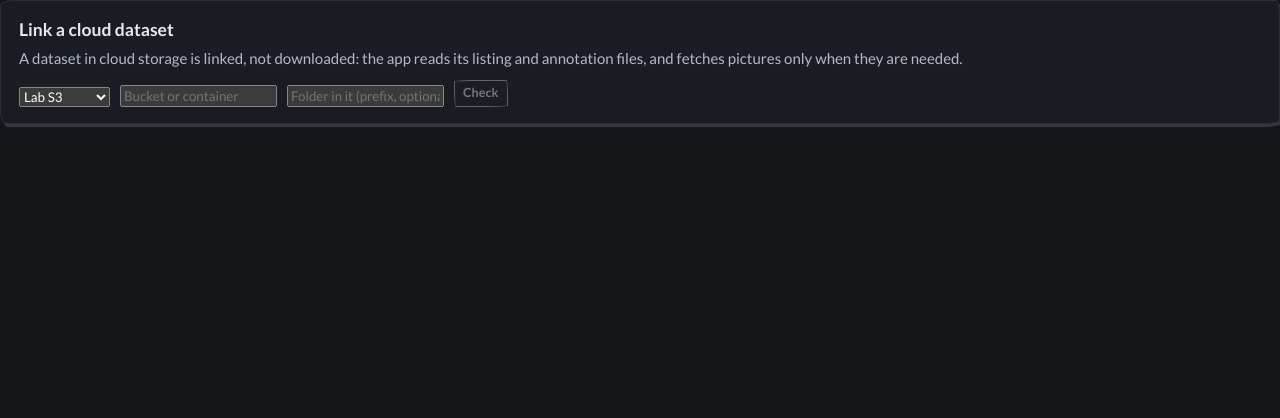
Test: CloudLink (doc 148) › checks a bucket on the first connection by default, shows the summary, and links
expect the button "Check" is disabled: met, box [454, 80, 508, 107]
Type "photos" into the field labelled "Bucket or container" at {"x": 198, "y": 96}, box [120, 85, 277, 107]
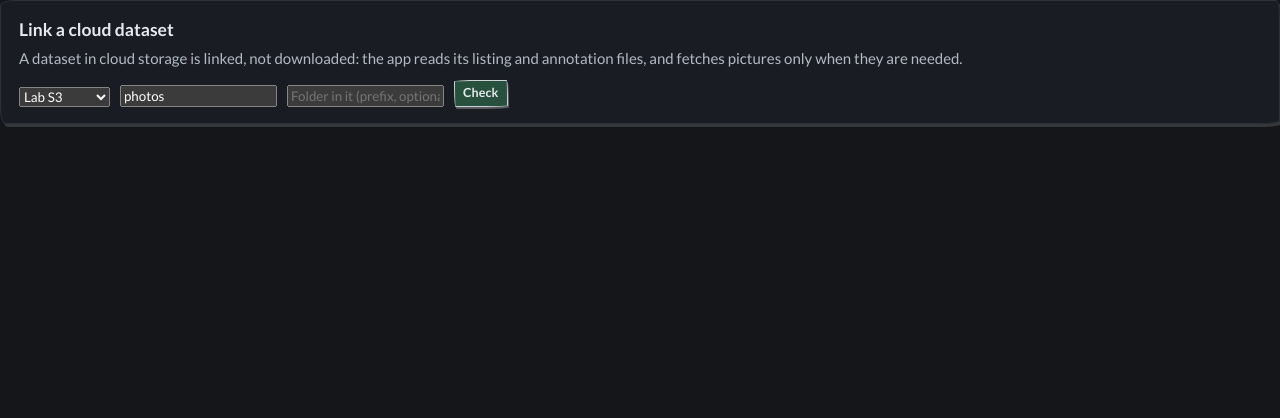
Type "rail" into the field labelled "Folder in it (prefix, optional)" at {"x": 366, "y": 96}, box [287, 85, 444, 107]
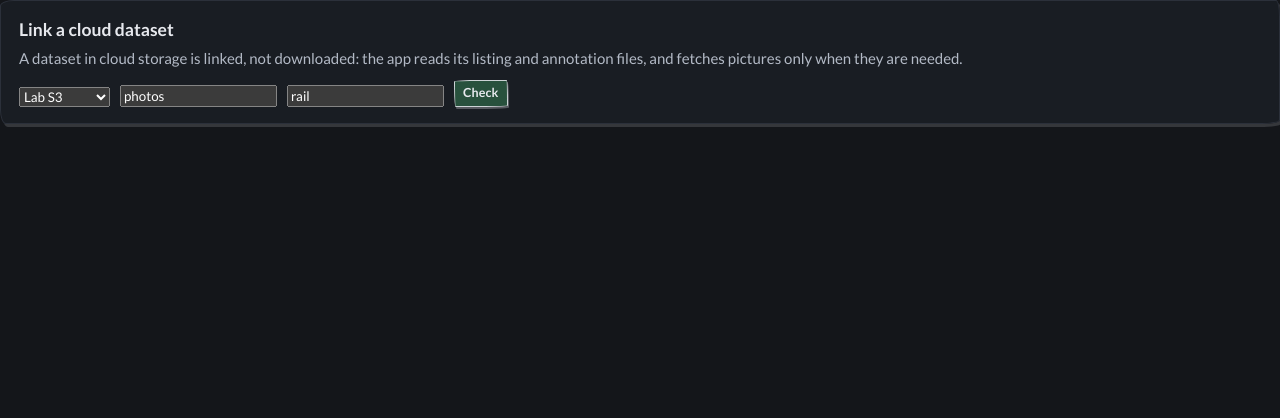
Click the button "Check" at {"x": 481, "y": 93}, box [454, 80, 508, 107]
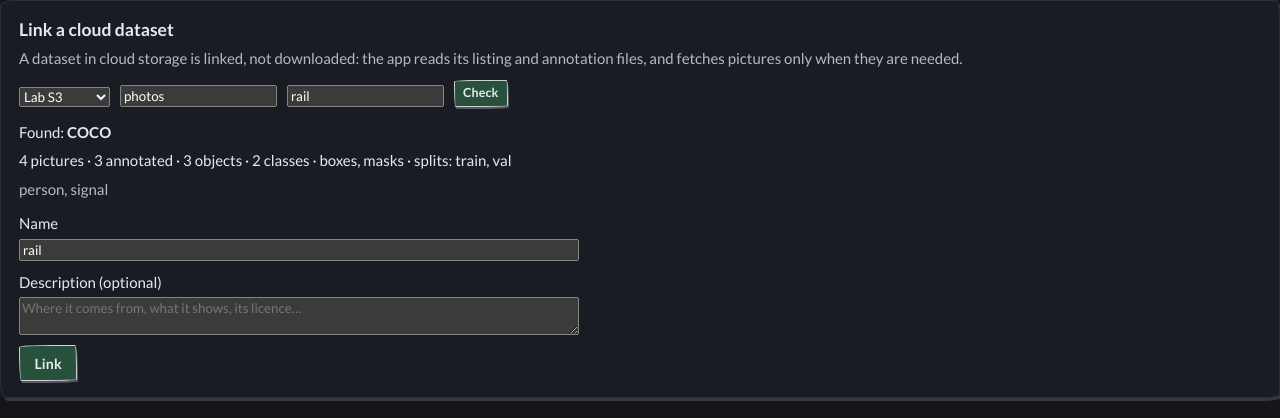
expect the text "Found: COCO" is shown: met, box [19, 123, 111, 141]
Replace the text in the field labelled "Name" with "Rail (cloud)" at {"x": 299, "y": 250}, box [19, 239, 579, 261]
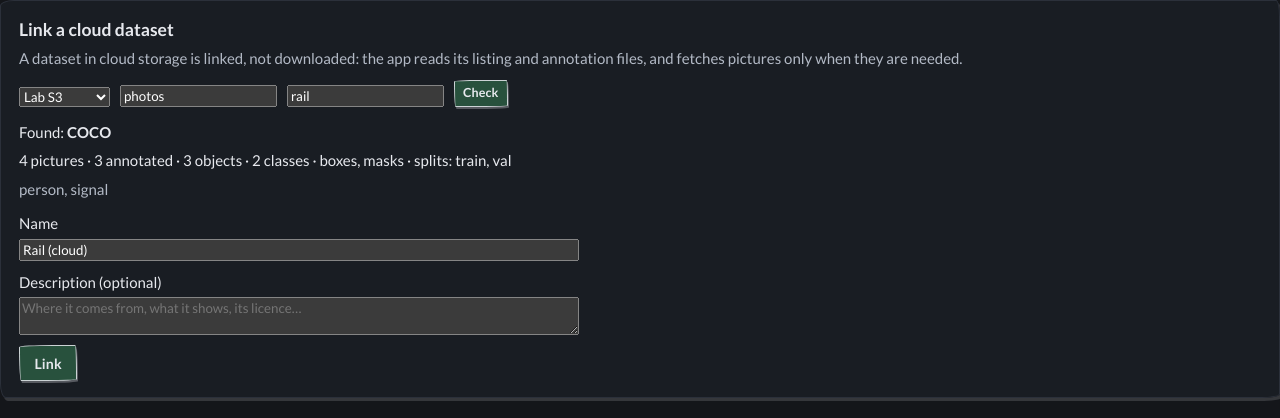
Click the button "Link" at {"x": 48, "y": 363}, box [19, 345, 77, 381]
Wait 800 ms
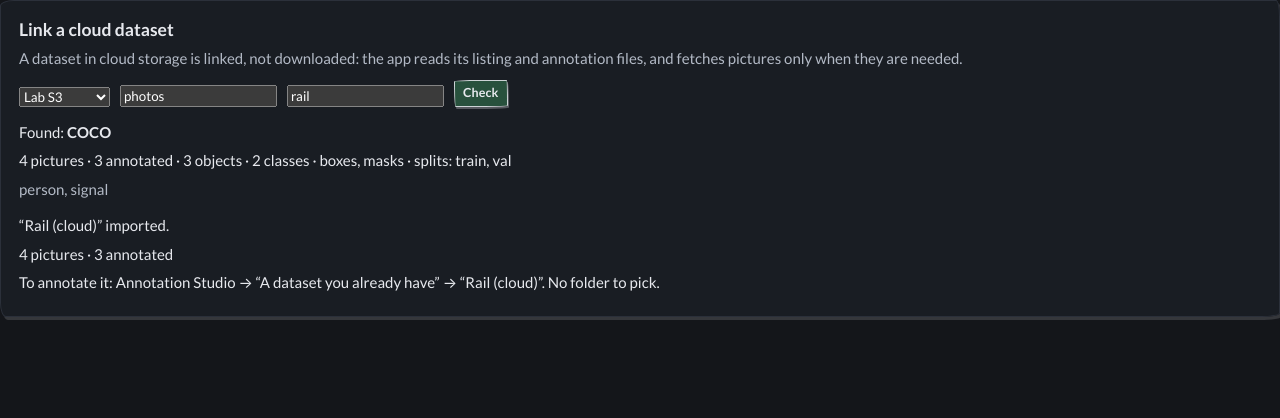
expect the text "“Rail (cloud)” imported." is shown: met, box [19, 216, 169, 234]
